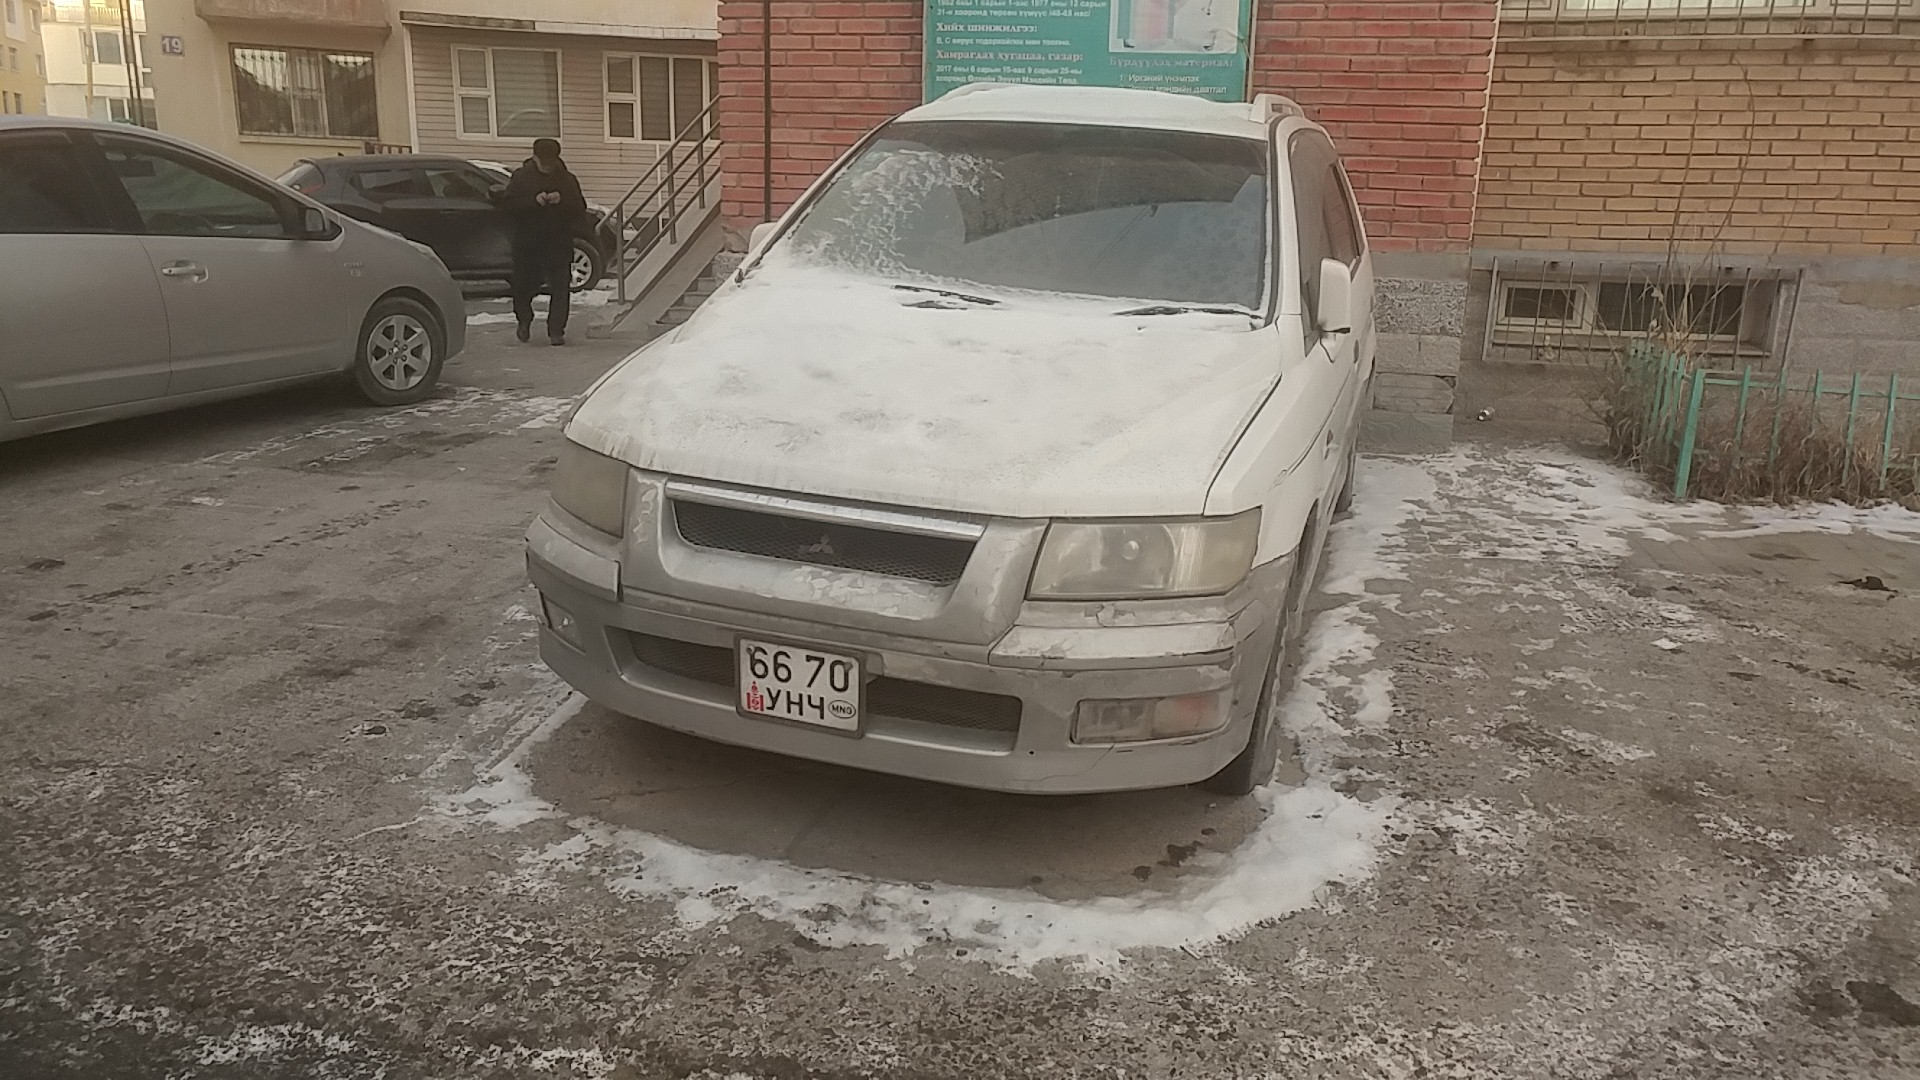0: (828, 658, 851, 693)
6: (770, 649, 793, 683), (748, 644, 769, 679)
7: (803, 653, 826, 689)
ch: (806, 692, 826, 720)
n: (785, 689, 804, 717)
plate: (733, 628, 866, 741)
u: (765, 686, 782, 711)
